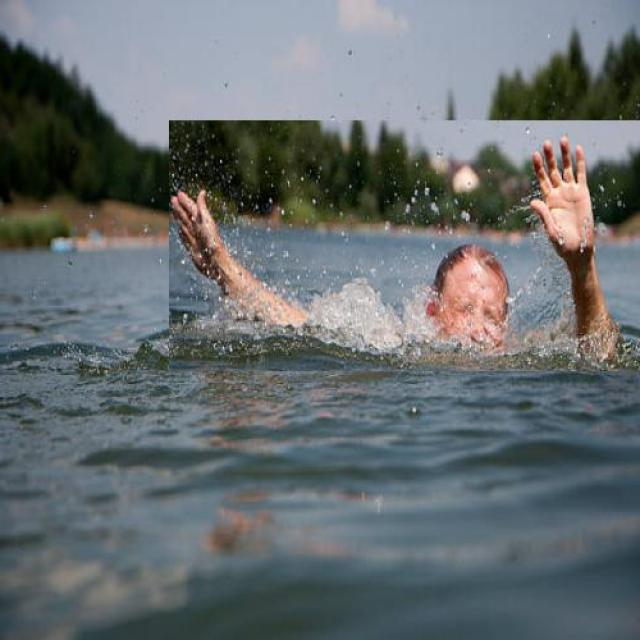drowning: (115, 139, 609, 388)
